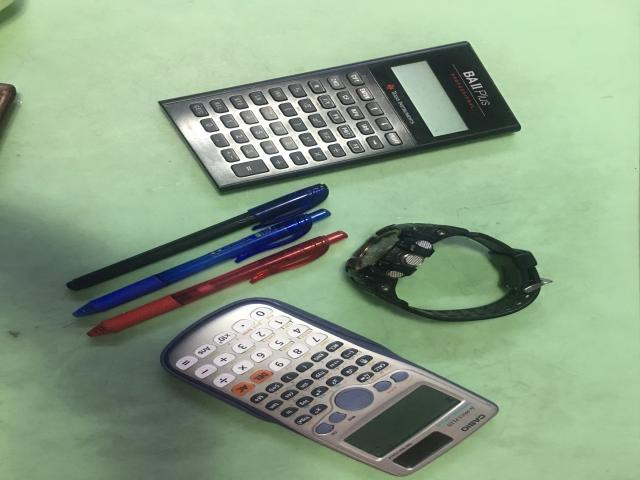Pen: (67, 184, 328, 291), (73, 209, 330, 317), (87, 232, 348, 337)
Watch: (347, 223, 552, 322)
